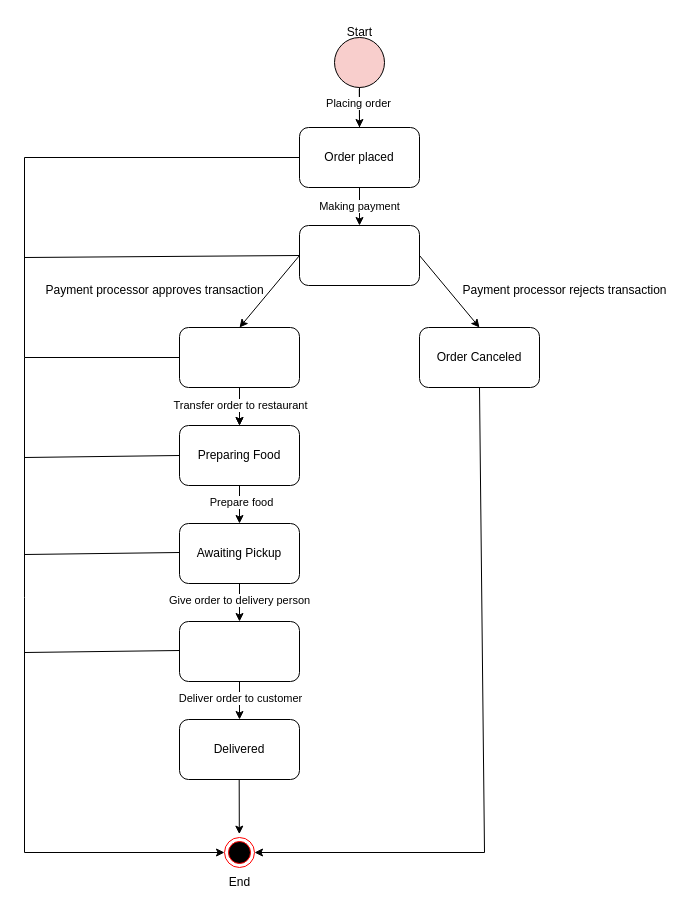
The diagram is 697 pixels wide and 914 high, and some of its shapes have lost their labels. The centre of each missing label's shape, as x and y in pixels:
"In delivery" goes at [239,651].
"Order Confirmed" goes at [239,357].
"Payment Processing" goes at [359,255].
